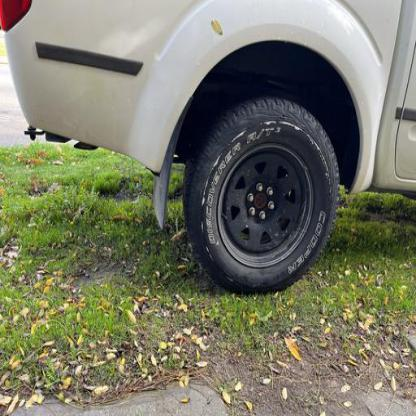Tire: (181, 93, 339, 296)
